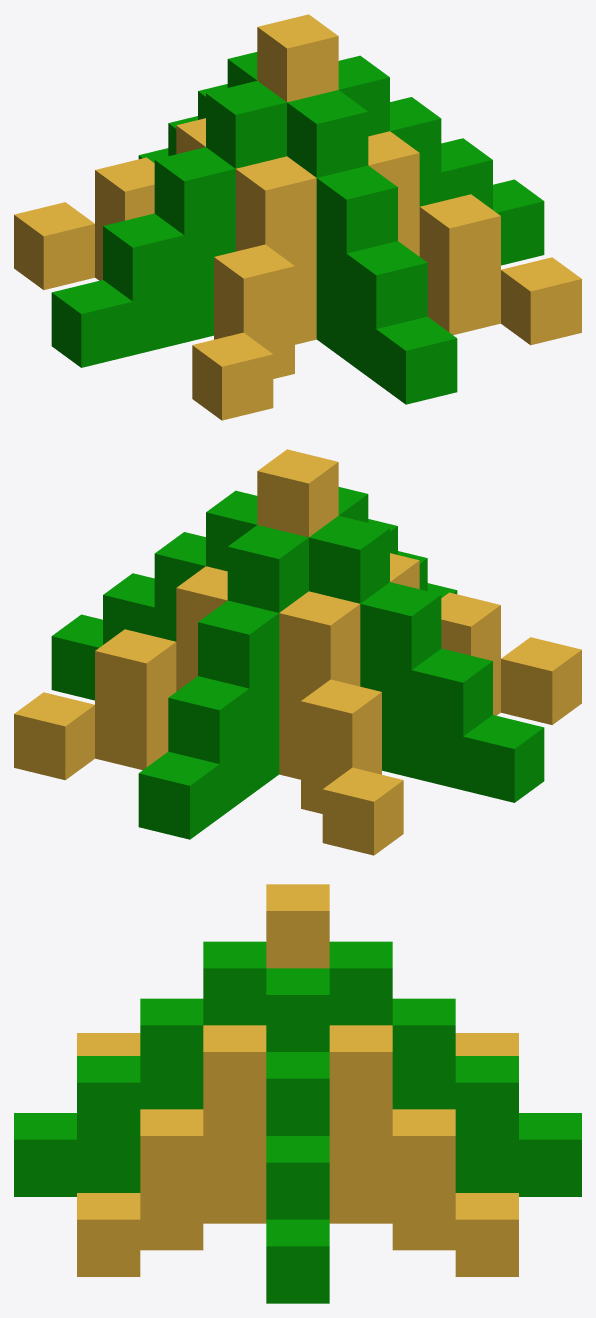
3 renders of one model, top to bottom at view 1: azimuth 30°, elevation 25°; view 2: azimuth 150°, elevation 25°; view 3: azimuth 270°, elevation 25°, orthographic. The views are drawn at different scales.
Parts seen in each view (by area): view 1: Matrix_7; view 2: Matrix_7; view 3: Matrix_7.
Part boxes in pixels (bbox=[...]): Matrix_7: bbox=[14, 14, 581, 420]; Matrix_7: bbox=[14, 449, 581, 855]; Matrix_7: bbox=[14, 884, 581, 1303].
Bounding box in the file's own units: 9 × 5 × 9.
1 material, 1 textured.
